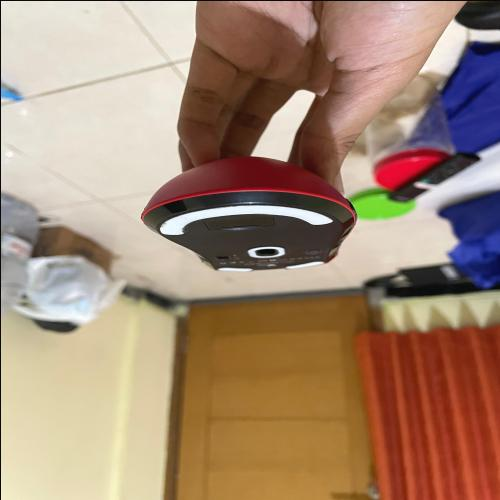Mouse: (109, 146, 371, 280)
